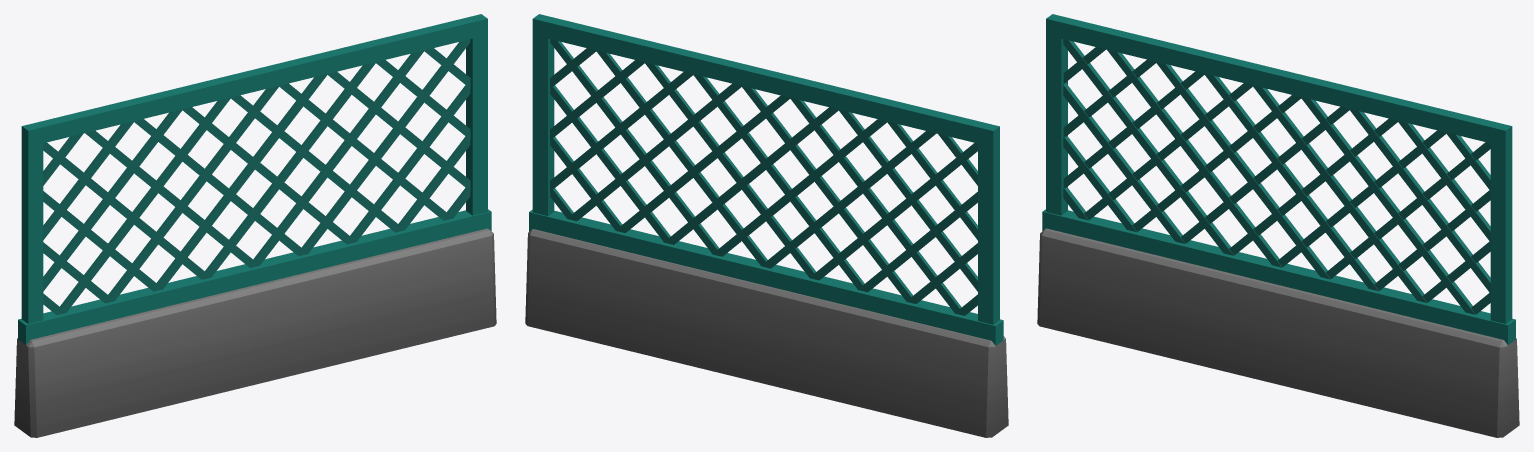
Rendered from Fence_1_E_6.fbx.
3 views of the same model, side by side, from view 1: azimuth 30°, elevation 25°; view 2: azimuth 150°, elevation 25°; view 3: azimuth 330°, elevation 25° (orthographic).
Parts seen in each view (by area): view 1: Fence_1_E_6; view 2: Fence_1_E_6; view 3: Fence_1_E_6.
Part boxes in pixels (x1,y1,x2,y2): Fence_1_E_6: (14, 14, 496, 437); Fence_1_E_6: (525, 14, 1008, 437); Fence_1_E_6: (1037, 14, 1519, 437).
Bounding box in the file's own units: 400 × 248 × 30.52.
